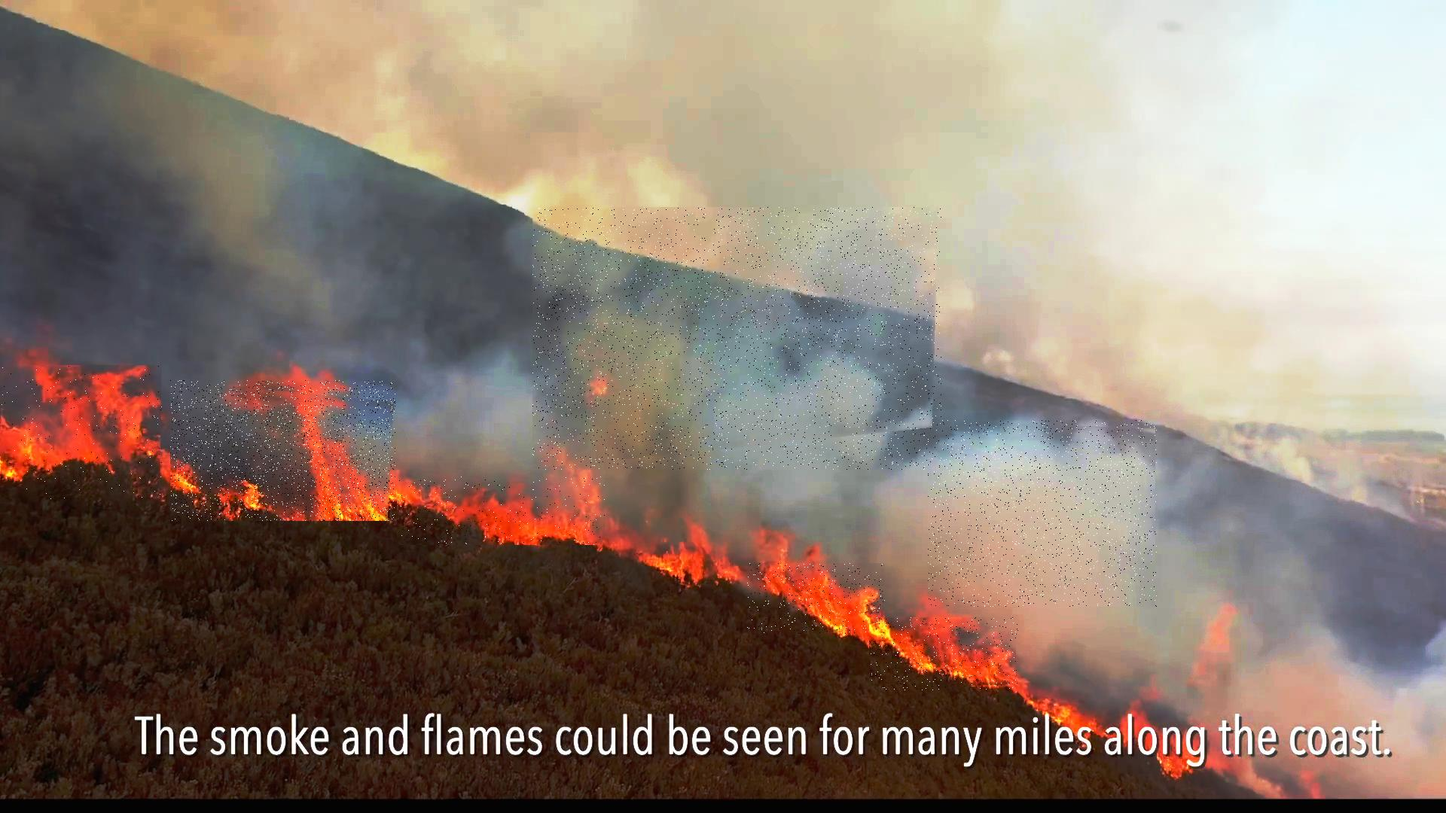fire: (171, 380, 396, 521), (1, 365, 162, 500), (397, 477, 607, 545), (870, 618, 1019, 691), (747, 563, 885, 634)
smoke: (533, 207, 942, 470), (929, 420, 1157, 607)
